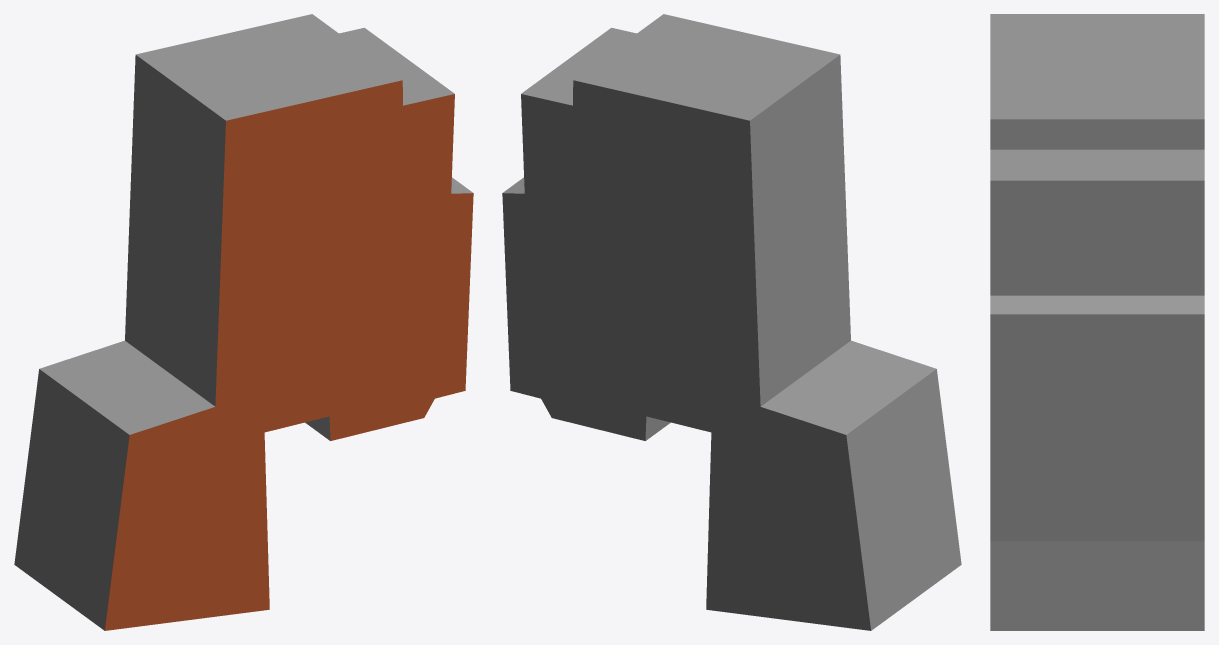
The model's file is construction_1853_assumed_A_Casa_h6m.obj.
The picture shows the model from 3 angles, left to right: view 1: azimuth 30°, elevation 25°; view 2: azimuth 150°, elevation 25°; view 3: azimuth 270°, elevation 25°; orthographic projection. The views are drawn at different scales.
Parts seen in each view (by area): view 1: construction_1853_assumed_A_Casa; view 2: construction_1853_assumed_A_Casa; view 3: construction_1853_assumed_A_Casa.
Part boxes in pixels (x1,y1,x2,y2): construction_1853_assumed_A_Casa: (14,14,473,630); construction_1853_assumed_A_Casa: (502,14,961,630); construction_1853_assumed_A_Casa: (990,14,1204,630).
Size of the model in its own units: 14.12 by 18.28 by 6.
